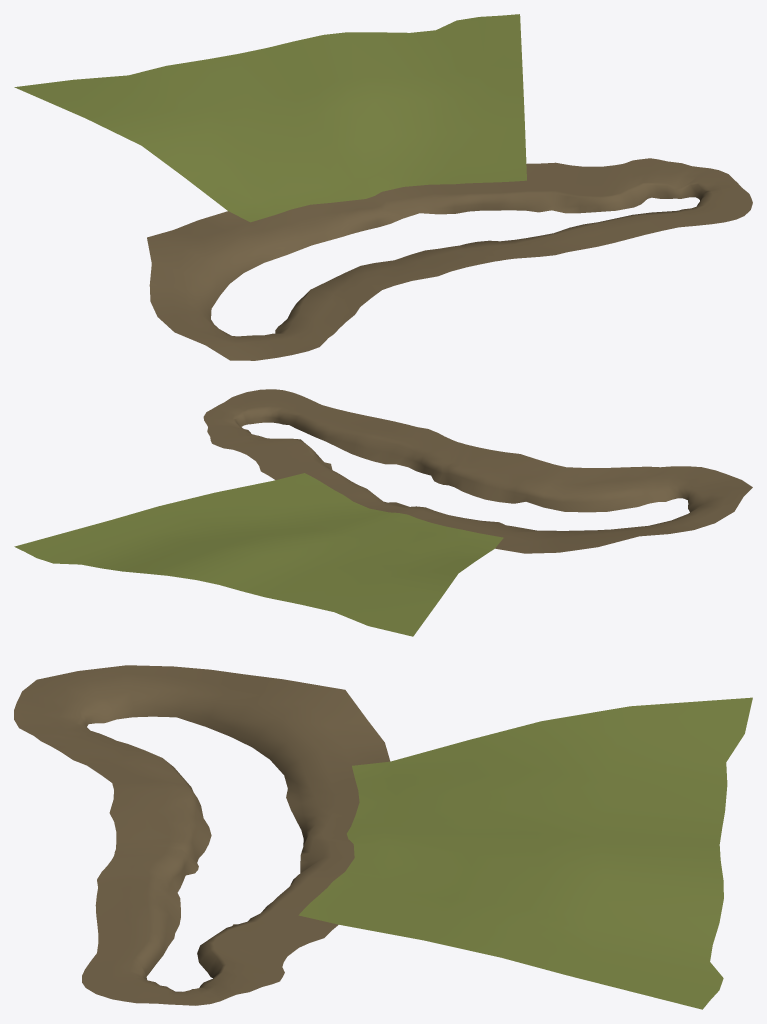
File: WE02_Terrain.fbx
3 renders of one model, top to bottom at view 1: azimuth 30°, elevation 25°; view 2: azimuth 150°, elevation 25°; view 3: azimuth 270°, elevation 25°, orthographic. The views are drawn at different scales.
Visible parts, largest first — view 1: WE01_LPTerrain; view 2: WE01_LPTerrain; view 3: WE01_LPTerrain.
Part boxes in pixels (x1,y1,x2,y2): WE01_LPTerrain: (14,14,752,360); WE01_LPTerrain: (14,389,752,636); WE01_LPTerrain: (14,665,752,1009).
Size of the model in its own units: 198 by 15.26 by 182.
1 material, 1 textured.
